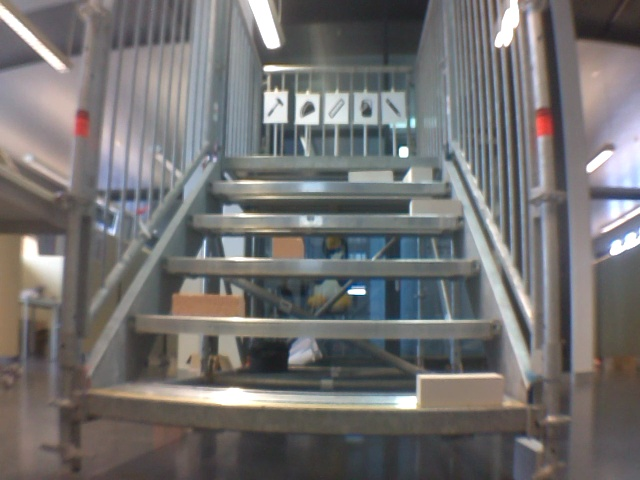brick: (417, 375, 502, 410), (172, 294, 241, 318), (410, 200, 461, 216), (273, 237, 302, 258), (348, 170, 391, 181), (405, 167, 431, 181)
bucket: (359, 96, 376, 120)
edge: (83, 394, 530, 430), (129, 314, 506, 338), (160, 257, 480, 274), (186, 215, 466, 227), (208, 181, 449, 194), (221, 156, 438, 167)
hammer: (263, 96, 285, 121)
pencil: (384, 97, 402, 118)
ruler: (326, 95, 345, 119)
stairs: (59, 5, 570, 473)
steps: (77, 152, 536, 438)
taco: (297, 99, 316, 120)
